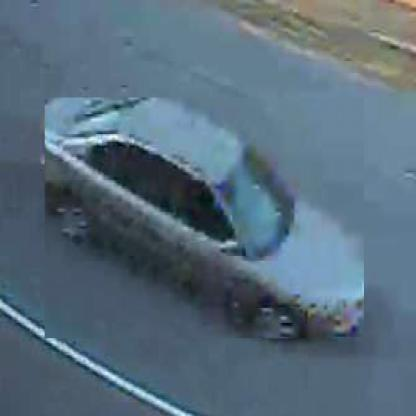car: (46, 98, 366, 341)
